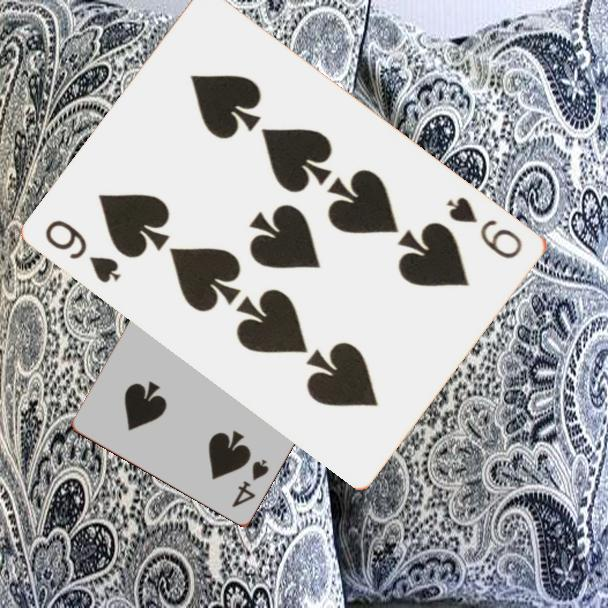s04: (228, 456, 272, 511)
s09: (42, 216, 125, 286), (443, 193, 526, 262)
